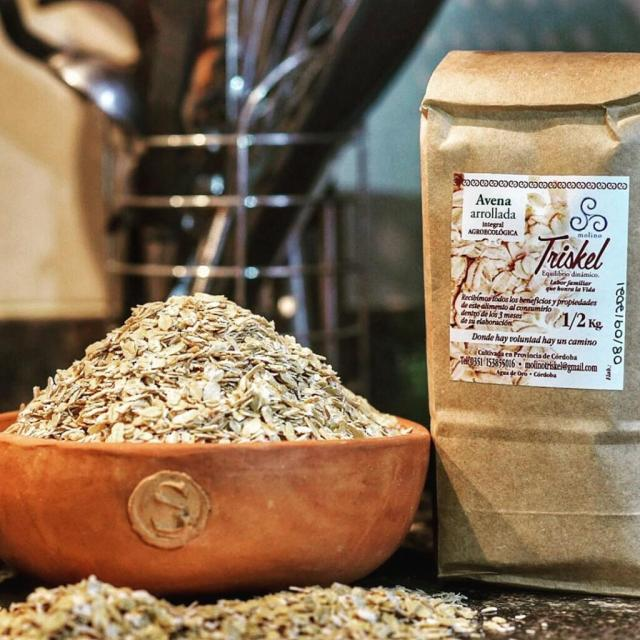avena: (9, 277, 428, 474)
